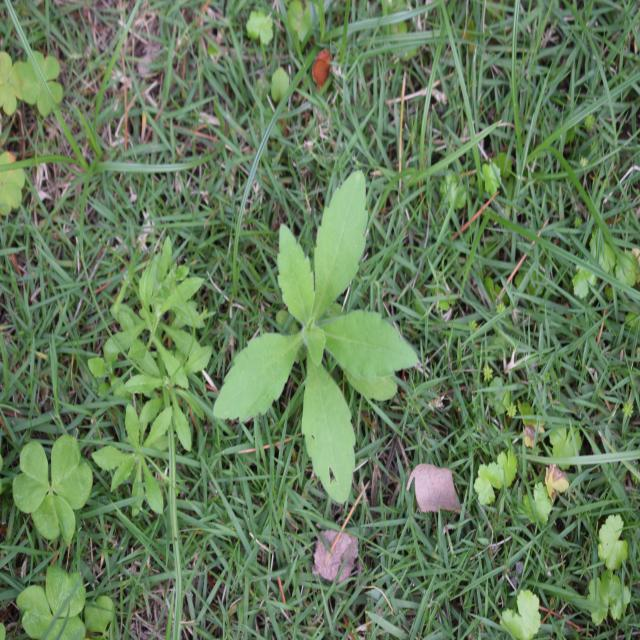horseweed: (222, 160, 403, 480)
